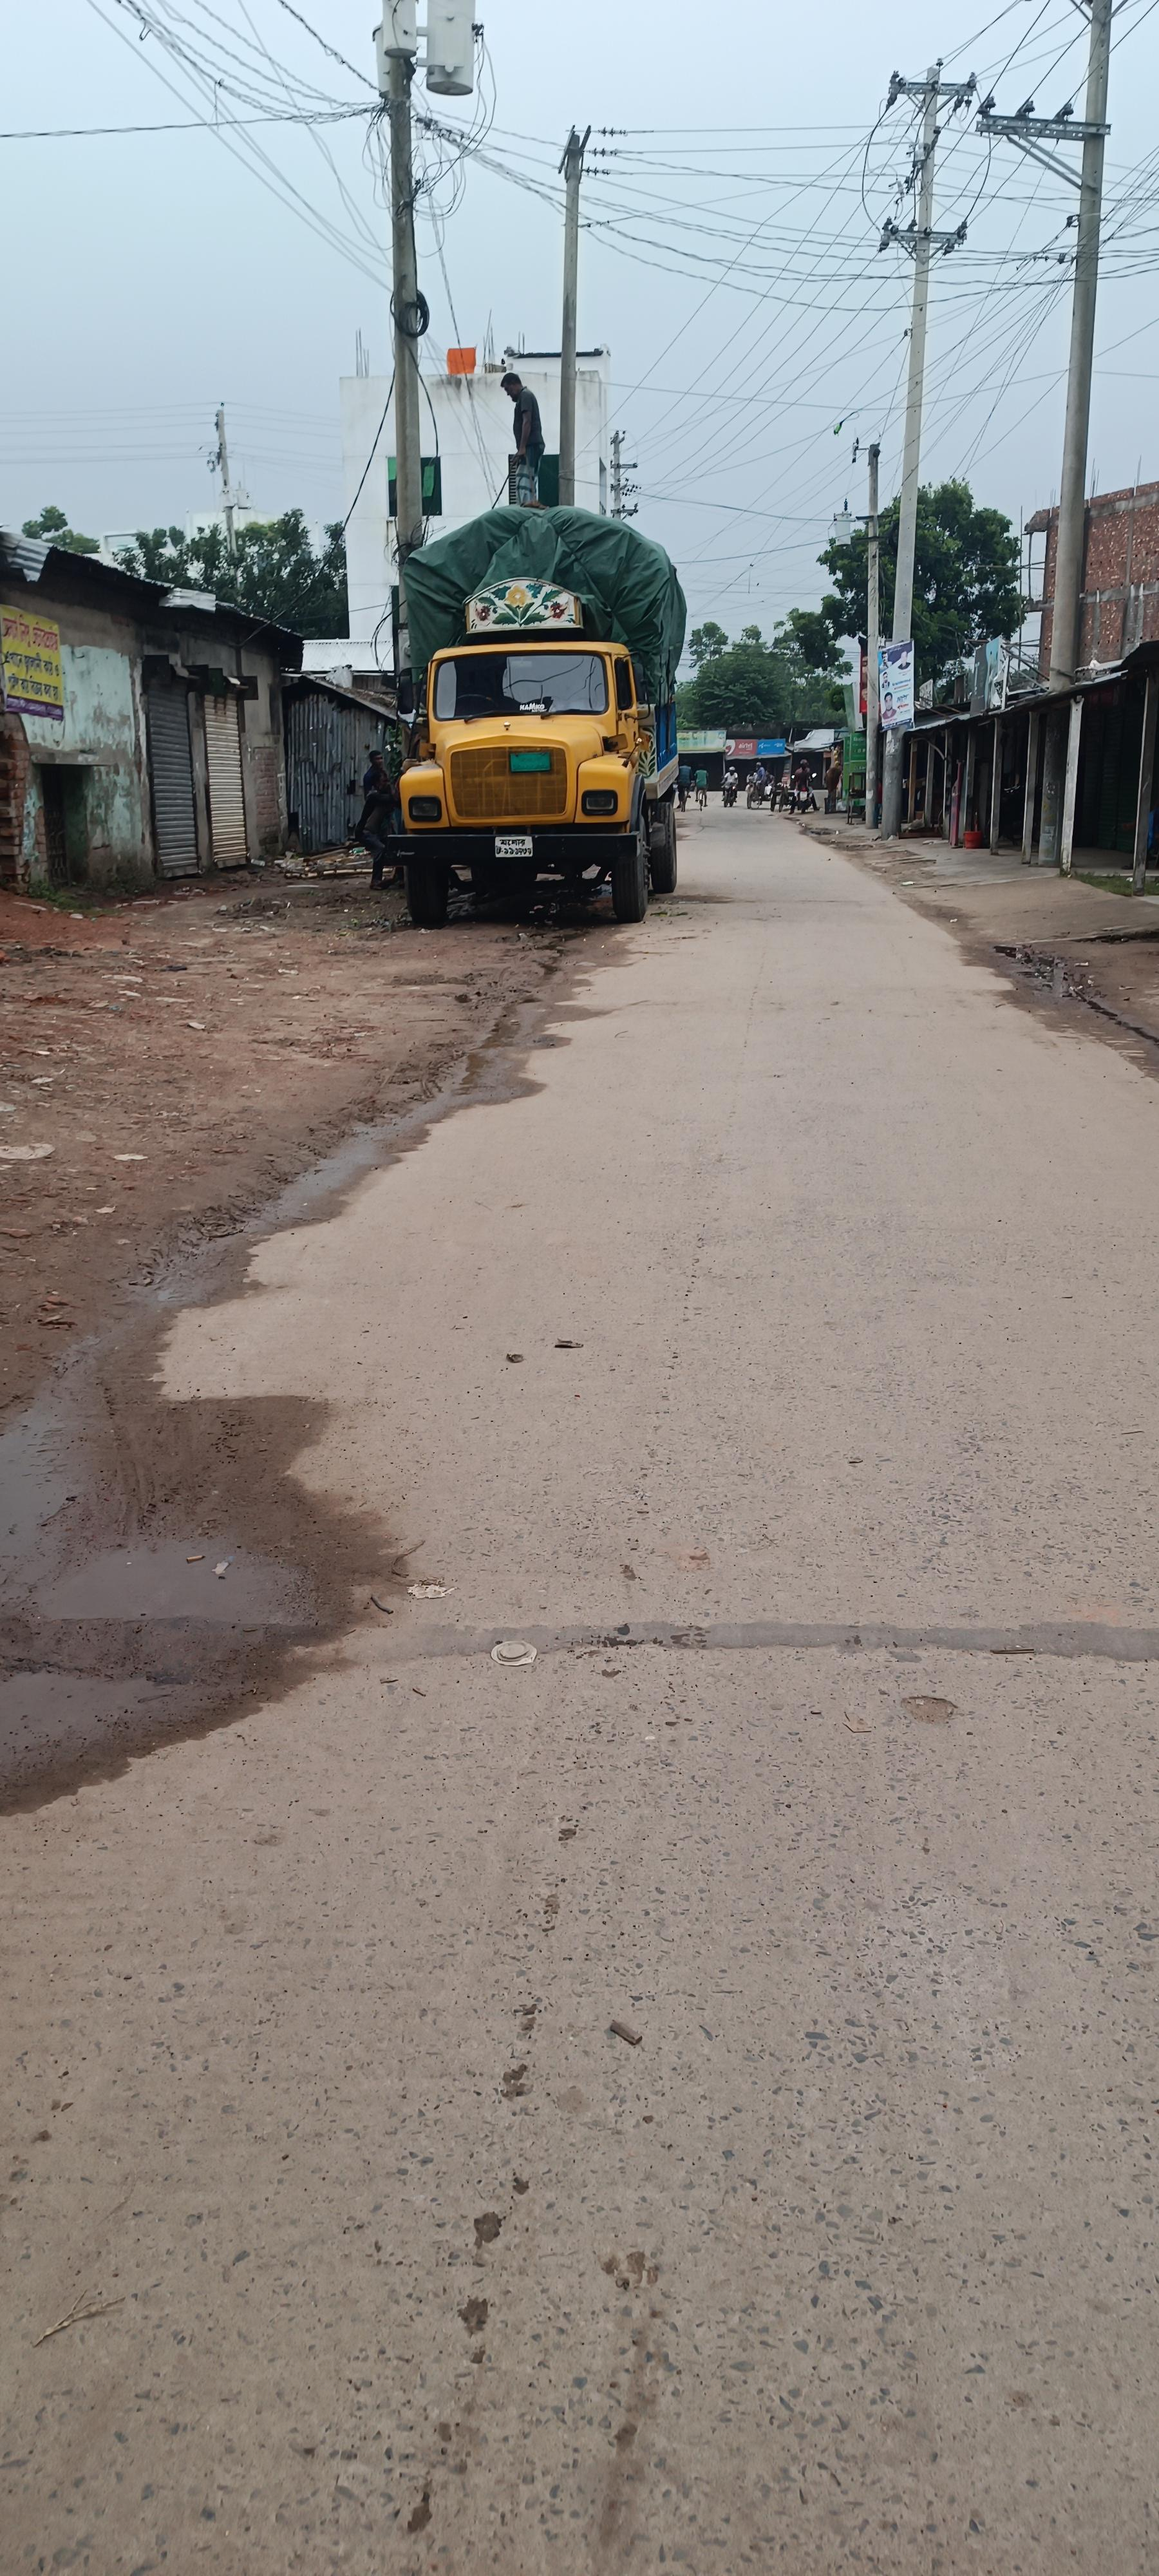Garbage-bin: (356, 746, 399, 889), (501, 373, 545, 506)
Light-pole: (1011, 130, 1128, 927), (337, 46, 489, 540), (883, 77, 960, 851)
Traffic-cone: (355, 458, 773, 933)
